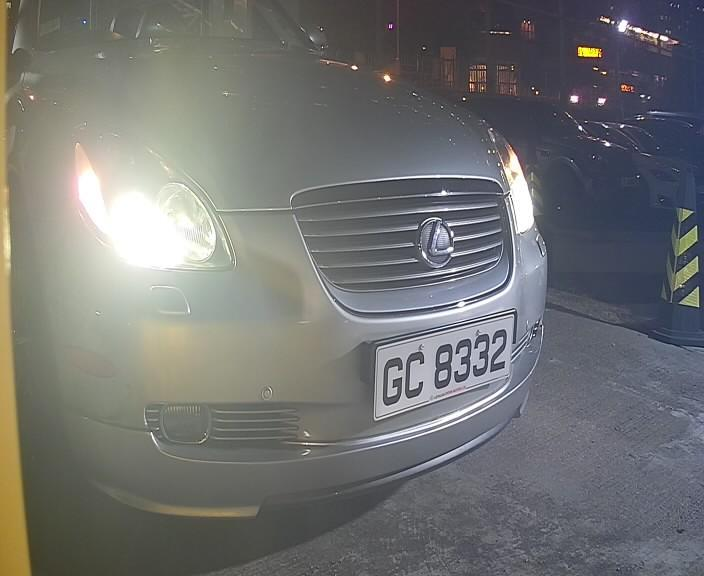privatecar: (51, 6, 560, 538)
